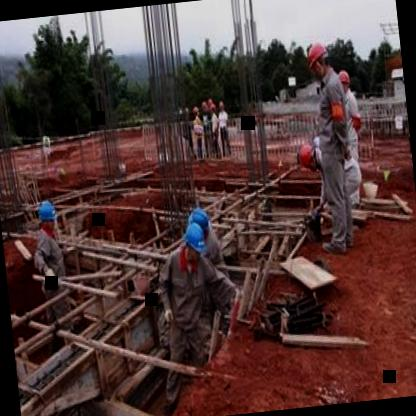helmet: (303, 41, 332, 80), (182, 223, 206, 258), (36, 196, 58, 233), (187, 207, 211, 238), (295, 141, 318, 168), (336, 65, 350, 92), (199, 98, 208, 112), (190, 104, 200, 116), (218, 99, 226, 111), (209, 102, 216, 114)
